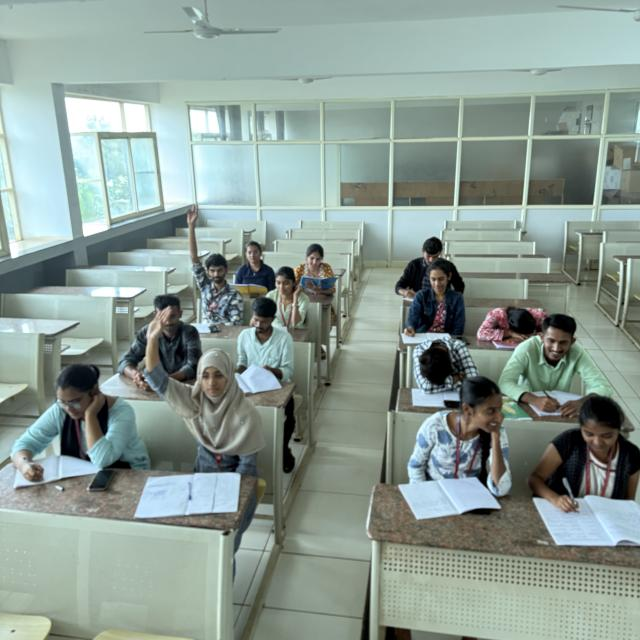Hand Rising: (132, 294, 264, 483), (178, 205, 242, 322)
Reading: (226, 238, 274, 297), (293, 240, 341, 296)
Sleeping: (409, 331, 479, 396), (477, 299, 559, 346)
Writing: (7, 353, 142, 485), (536, 398, 636, 540), (511, 308, 611, 413), (401, 264, 467, 349)
